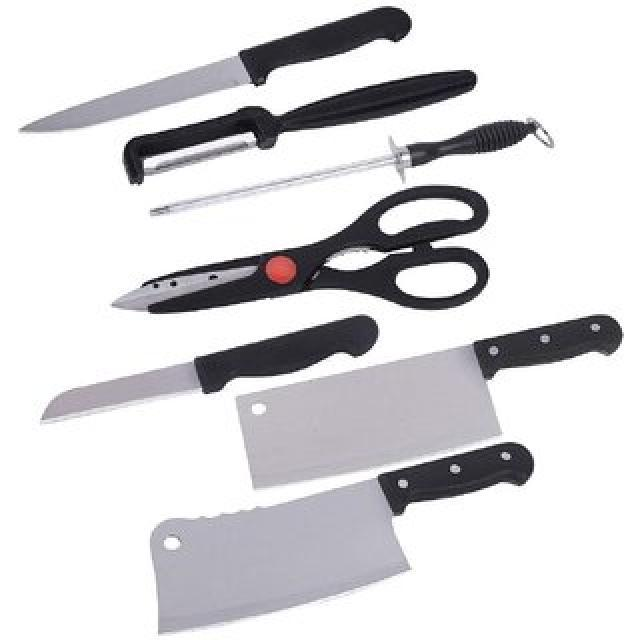cleaver: (128, 438, 555, 636), (223, 309, 637, 505)
knife: (9, 2, 433, 149), (20, 305, 401, 441)
